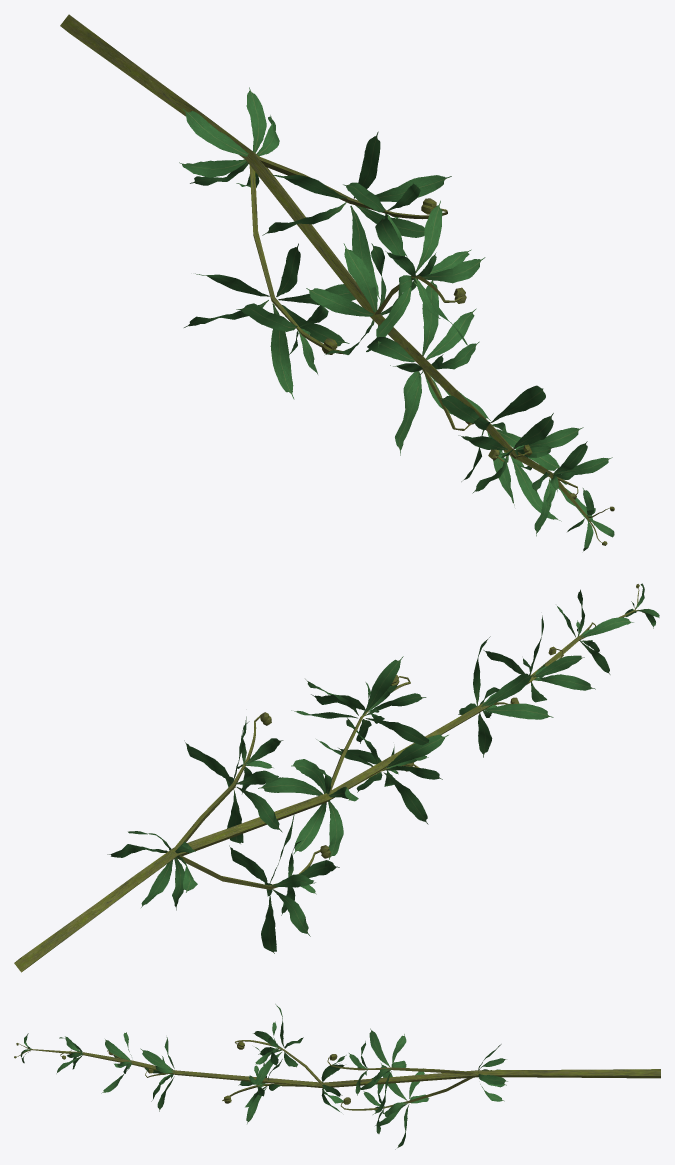
3 renders of one model, top to bottom at view 1: azimuth 30°, elevation 25°; view 2: azimuth 150°, elevation 25°; view 3: azimuth 270°, elevation 25°, orthographic. The views are drawn at different scales.
Parts seen in each view (by area): view 1: GC09_3; view 2: GC09_3; view 3: GC09_3.
Boxes of the visible parts, <box> form: GC09_3: <box>60,14,614,551</box>; GC09_3: <box>14,583,659,972</box>; GC09_3: <box>14,1004,660,1149</box>.
Bounding box in the file's own units: 0.6575 × 0.7322 × 3.04.
2 materials, 2 textured.
